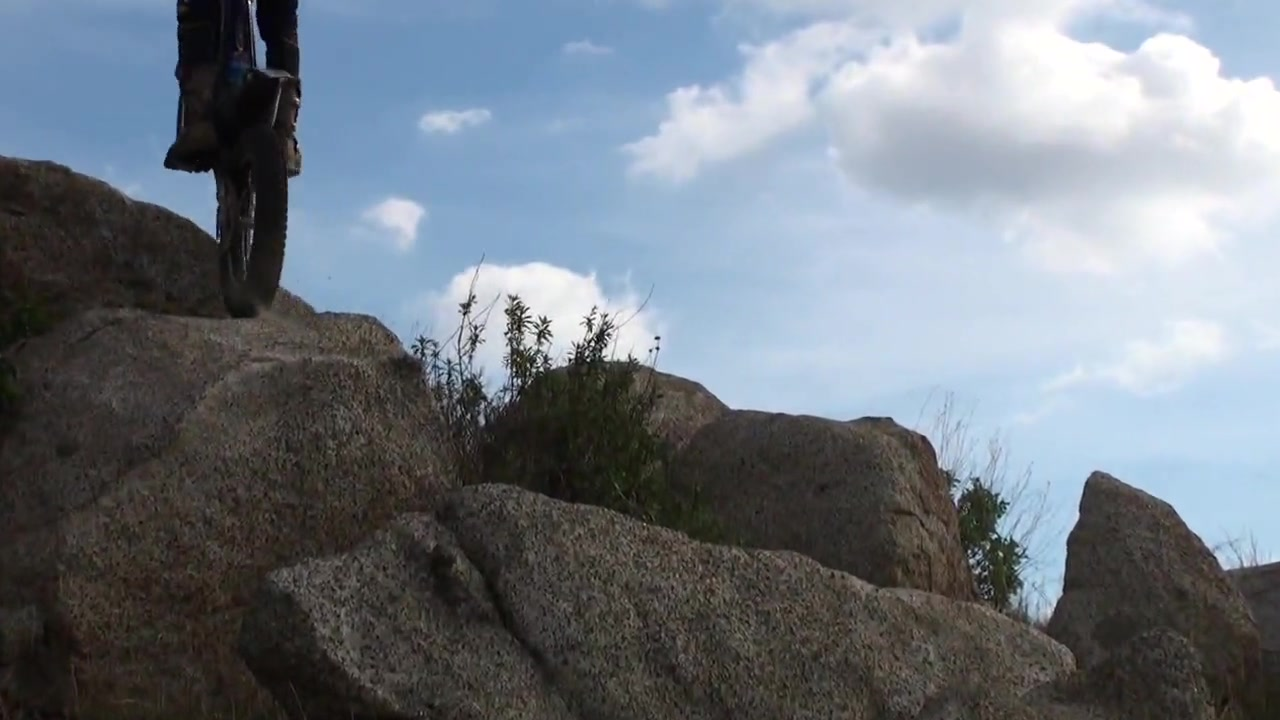motorbike: (183, 3, 306, 321)
